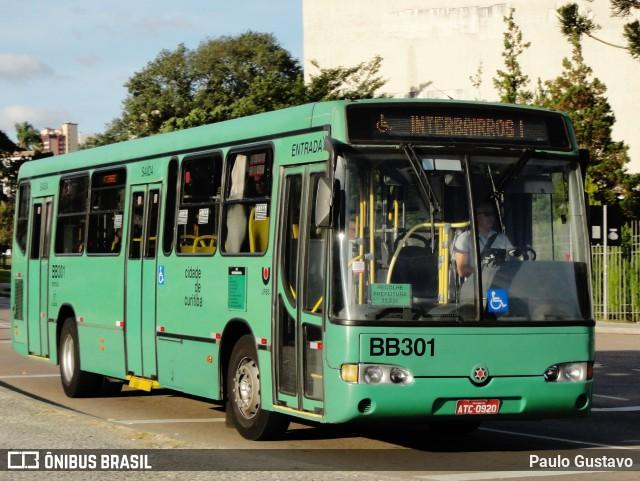INTERBAIRROS I: (407, 112, 529, 143)
